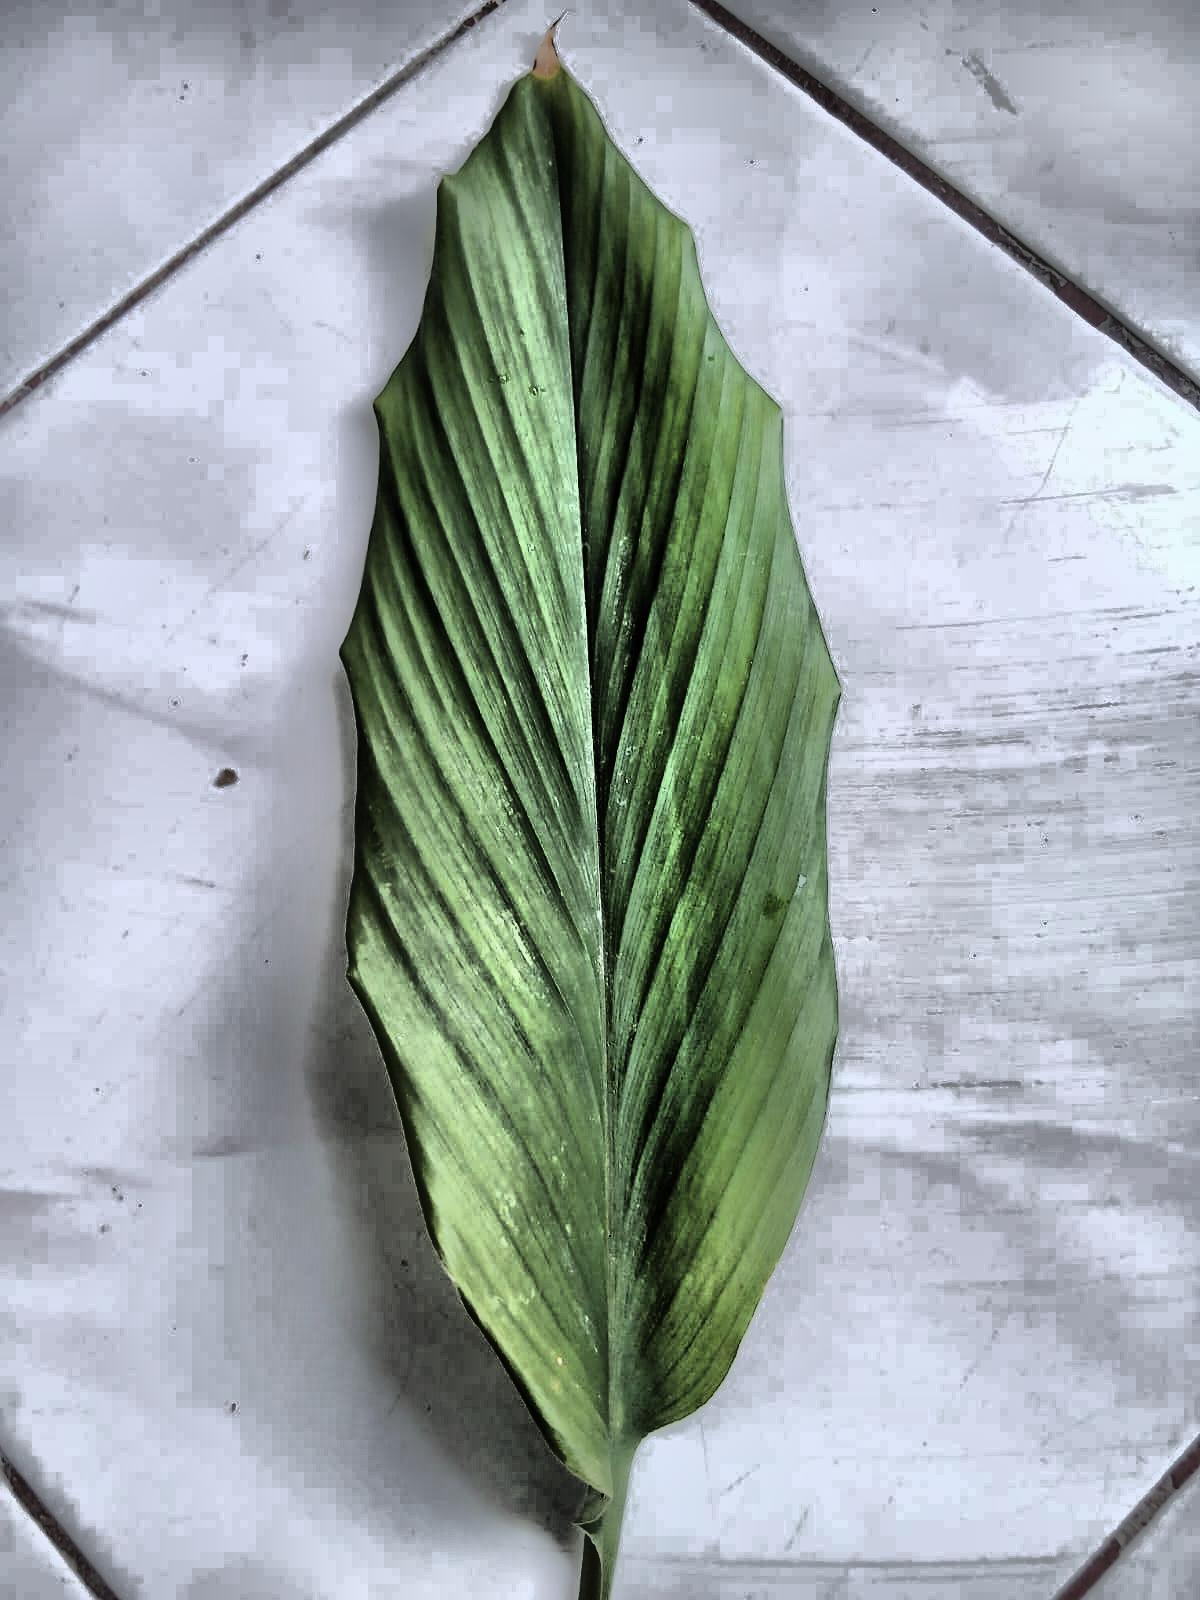daun kunyit: (342, 39, 839, 1599)
